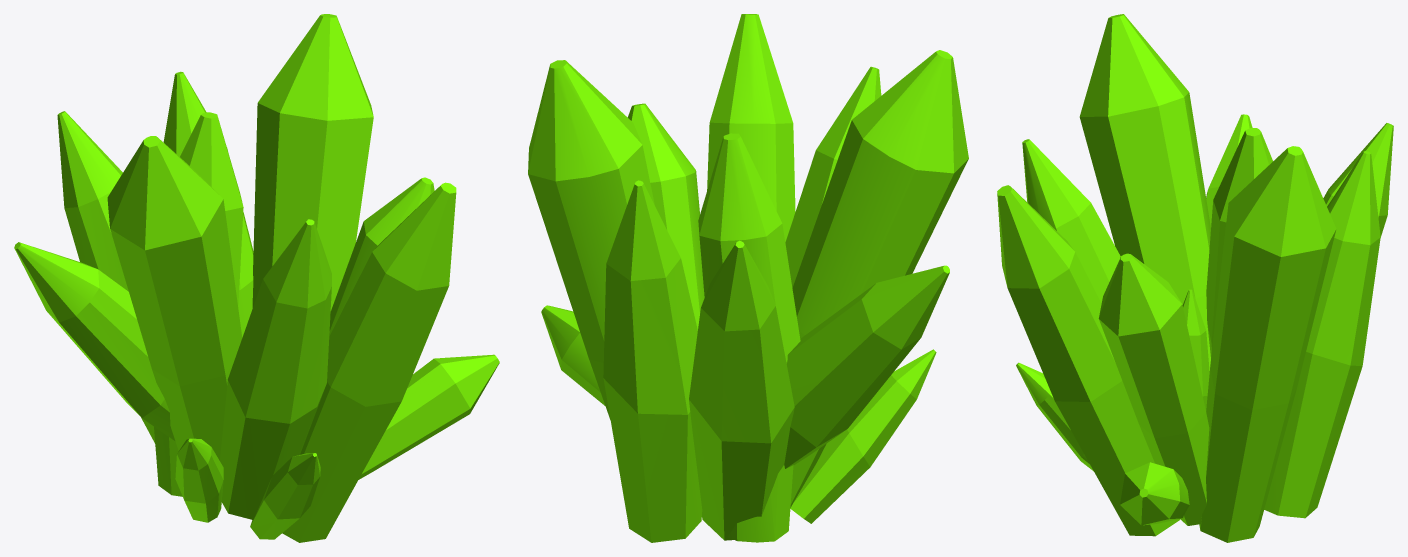
The model's file is Crystal_Bunch_Green.fbx.
3 renders of one model, left to right at view 1: azimuth 30°, elevation 25°; view 2: azimuth 150°, elevation 25°; view 3: azimuth 270°, elevation 25°, orthographic. The views are drawn at different scales.
Parts seen in each view (by area): view 1: Model; view 2: Model; view 3: Model.
Boxes of the visible parts, x1=… form: Model: x1=14, y1=14, x2=499, y2=542; Model: x1=528, y1=14, x2=968, y2=542; Model: x1=997, y1=14, x2=1393, y2=542.
Size of the model in its own units: 337 by 335 by 276.
